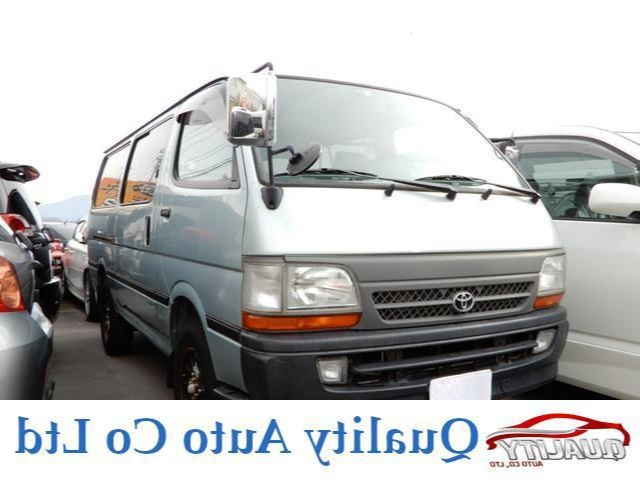van: (78, 68, 562, 408)
